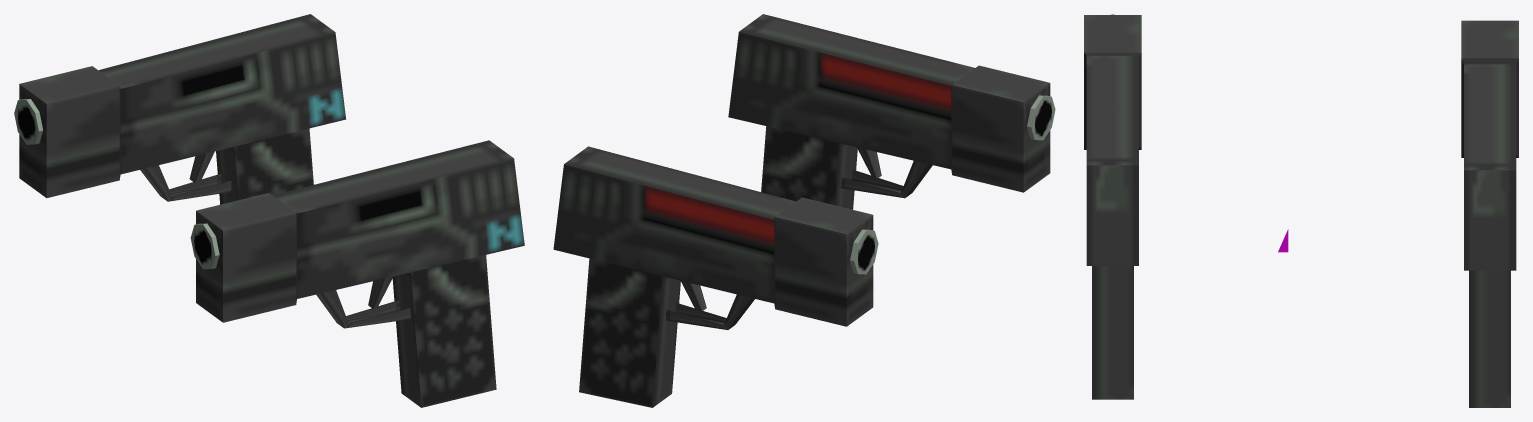
The model's file is magnum.glb.
3 views of the same model, side by side, from view 1: azimuth 30°, elevation 25°; view 2: azimuth 150°, elevation 25°; view 3: azimuth 270°, elevation 25° (orthographic). The views are drawn at different scales.
Parts seen in each view (by area): view 1: M002, M001; view 2: M001, M002; view 3: M001, M002.
Boxes of the visible parts, x1,y1,x2,y2 form: M002: (190, 140, 524, 407); M001: (14, 14, 346, 204); M001: (553, 146, 878, 407); M002: (728, 14, 1055, 209); M001: (1461, 20, 1518, 407); M002: (1084, 14, 1141, 399).
Bounding box in the file's own units: 1.44 × 1.05 × 1.66.
Materials: 1 (1 with a texture image).
